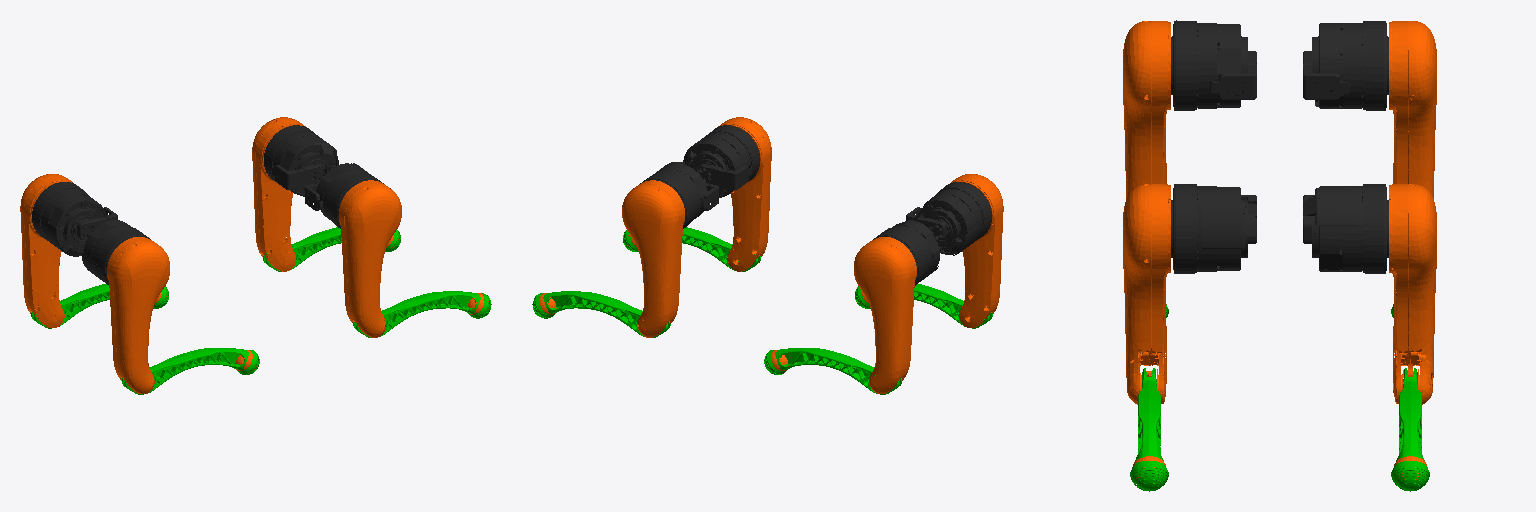
robot.urdf — magicdog:
<?xml version="1.0" ?>
<!-- =================================================================================== -->
<!-- |    This document was autogenerated by xacro from robot.xacro                    | -->
<!-- |    EDITING THIS FILE BY HAND IS NOT RECOMMENDED                                 | -->
<!-- =================================================================================== -->
<robot name="magicdog">
  <material name="black">
    <color rgba="0.0 0.0 0.0 1.0"/>
  </material>
  <material name="blue">
    <color rgba="0.0 0.0 0.8 1.0"/>
  </material>
  <material name="green">
    <color rgba="0.0 0.8 0.0 1.0"/>
  </material>
  <material name="grey">
    <color rgba="0.2 0.2 0.2 1.0"/>
  </material>
  <material name="silver">
    <color rgba="0.9137254901960784 0.9137254901960784 0.8470588235294118 1.0"/>
  </material>
  <material name="orange">
    <color rgba="1.0 0.4235294117647059 0.0392156862745098 1.0"/>
  </material>
  <material name="brown">
    <color rgba="0.8705882352941177 0.8117647058823529 0.7647058823529411 1.0"/>
  </material>
  <material name="red">
    <color rgba="0.8 0.0 0.0 1.0"/>
  </material>
  <material name="white">
    <color rgba="1.0 1.0 1.0 1.0"/>
  </material>
  <link name="base">
    <visual>
      <origin rpy="0 0 0" xyz="0 0 0"/>
      <geometry>
        <mesh filename="../meshes/magicdog_base.STL" scale="1 1 1"/>
      </geometry>
      <material name="silver"/>
    </visual>
    <collision>
      <origin rpy="0 0 0" xyz="0 0 0"/>
      <geometry>
        <box size="0.327 0.194 0.114"/>
      </geometry>
    </collision>
    <inertial>
      <origin rpy="0 0 0" xyz="0.043915809 0.0014386952 0.023430447"/>
      <mass value="7.1470505"/>
      <inertia ixx="0.041446738" ixy="0.00030043745" ixz="-0.029443965" iyy="0.13639022" iyz="0.00024507679" izz="0.13178939"/>
    </inertial>
  </link>
  <joint name="head_fixed" type="fixed">
    <origin rpy="0 0 0" xyz="0.25 0 0.14"/>
    <parent link="base"/>
    <child link="head"/>
  </joint>
  <!-- this link is only for collision -->
  <link name="head">
    <inertial>
      <mass value="0.001"/>
      <origin rpy="0 0 0" xyz="0 0 0"/>
      <inertia ixx="0.000001" ixy="0" ixz="0" iyy="0.000001" iyz="0" izz="0.000001"/>
    </inertial>
    <collision>
      <origin rpy="0 0 0" xyz="0 0 0"/>
      <geometry>
        <box size="0.16 0.1 0.13"/>
      </geometry>
    </collision>
  </link>
  <joint name="FR_hip_joint" type="revolute">
    <origin rpy="0 0 0" xyz="0.220365 -0.04998785 0"/>
    <parent link="base"/>
    <child link="FR_hip"/>
    <axis xyz="1 0 0"/>
    <dynamics damping="0" friction="0"/>
    <limit effort="25" lower="-0.6457718232379019" upper="0.7853981633974483" velocity="22"/>
  </joint>
  <link name="FR_hip">
    <visual>
      <origin rpy="0 0 0" xyz="0 0 0"/>
      <geometry>
        <mesh filename="../meshes/magicdog_hip_R.STL" scale="1 1 1"/>
      </geometry>
      <material name="grey"/>
    </visual>
    <collision>
      <origin rpy="1.5707963267948966 0 0" xyz="0 -0.075 0"/>
      <geometry>
        <cylinder length="0.07" radius="0.05"/>
      </geometry>
    </collision>
    <inertial>
      <origin rpy="0 0 0" xyz="-0.034672887 0.0039130227 0.0"/>
      <mass value="0.35996359"/>
      <inertia ixx="0.00010289238" ixy="-3.0677028e-05" ixz="0" iyy="0.00047667644" iyz="-0.0" izz="0.00046973335"/>
    </inertial>
  </link>
  <joint name="FR_thigh_joint" type="revolute">
    <origin rpy="0 0 0" xyz="0 -0.099 0"/>
    <parent link="FR_hip"/>
    <child link="FR_thigh"/>
    <axis xyz="0 1 0"/>
    <dynamics damping="0" friction="0"/>
    <limit effort="25" lower="-1.2653637076958888" upper="3.6215581978882336" velocity="22"/>
  </joint>
  <link name="FR_thigh">
    <visual>
      <origin rpy="0 0 0" xyz="0 0 0"/>
      <geometry>
        <mesh filename="../meshes/magicdog_thigh_R.STL" scale="1 1 1"/>
      </geometry>
      <material name="orange"/>
    </visual>
    <collision>
      <origin rpy="0 0 0" xyz="-0.02 0 -0.12"/>
      <geometry>
        <box size="0.043 0.0285 0.13"/>
      </geometry>
    </collision>
    <inertial>
      <origin rpy="0 0 0" xyz="-0.0033473586 0.031436598 -0.032009477"/>
      <mass value="1.5725954"/>
      <inertia ixx="0.0089600443" ixy="-0.00020991626" ixz="-0.00051137678" iyy="0.0078167414" iyz="-0.0017655451" izz="0.0028432732"/>
    </inertial>
  </link>
  <joint name="FR_calf_joint" type="revolute">
    <origin rpy="0 0 0" xyz="0 0 -0.2"/>
    <parent link="FR_thigh"/>
    <child link="FR_calf"/>
    <axis xyz="0 1 0"/>
    <dynamics damping="0" friction="0"/>
    <limit effort="37.5" lower="-2.4958208303518914" upper="-0.5235987755982988" velocity="15"/>
  </joint>
  <link name="FR_calf">
    <visual>
      <origin rpy="0 0 0" xyz="0 0 0"/>
      <geometry>
        <mesh filename="../meshes/magicdog_claf.STL" scale="1 1 1"/>
      </geometry>
      <material name="green"/>
    </visual>
    <collision>
      <origin rpy="0 1.5707963267948966 0" xyz="0.02 0 -0.1"/>
      <geometry>
        <box size="0.13 0.025 0.02"/>
      </geometry>
    </collision>
    <inertial>
      <origin rpy="0 0 0" xyz="0.0067810781 -4.6564496e-07 -0.070408595"/>
      <mass value="0.24182624"/>
      <inertia ixx="0.0016261823" ixy="1.1047432e-09" ixz="-7.1695784e-06" iyy="0.0016488489" iyz="-2.0151304e-09" izz="4.2153701e-05"/>
    </inertial>
  </link>
  <joint name="FR_foot_joint" type="fixed" dont_collapse="true">
    <origin rpy="0 0 0" xyz="0 0 -0.2"/>
    <parent link="FR_calf"/>
    <child link="FR_foot"/>
    <axis xyz="0 0 0" />
  </joint>
  <link name="FR_foot">
    <visual>
      <origin rpy="0 0 0" xyz="0 0 0"/>
      <geometry>
        <sphere radius="0.02"/>
      </geometry>
      <material name="orange"/>
    </visual>
    <collision>
      <origin rpy="0 0 0" xyz="0 0 0"/>
      <geometry>
        <sphere radius="0.02"/>
      </geometry>
    </collision>
    <inertial>
      <origin xyz="0 0 0" rpy="0 0 0" />
      <mass value="0.01"/>
      <inertia ixx="1.6e-06" ixy="0.0" ixz="0.0" iyy="1.6e-06" iyz="0.0" izz="1.6e-06"/>
    </inertial>
  </link>
  <joint name="FL_hip_joint" type="revolute">
    <origin rpy="0 0 0" xyz="0.220365 0.04998785 0"/>
    <parent link="base"/>
    <child link="FL_hip"/>
    <axis xyz="1 0 0"/>
    <dynamics damping="0" friction="0"/>
    <limit effort="25" lower="-0.7853981633974483" upper="0.6457718232379019" velocity="22"/>
  </joint>
  <link name="FL_hip">
    <visual>
      <origin rpy="0 0 0" xyz="0 0 0"/>
      <geometry>
        <mesh filename="../meshes/magicdog_hip_L.STL" scale="1 1 1"/>
      </geometry>
      <material name="grey"/>
    </visual>
    <collision>
      <origin rpy="1.5707963267948966 0 0" xyz="0 0.075 0"/>
      <geometry>
        <cylinder length="0.07" radius="0.05"/>
      </geometry>
    </collision>
    <inertial>
      <origin rpy="0 0 0" xyz="-0.034672887 -0.0039130227 0.0"/>
      <mass value="0.35996359"/>
      <inertia ixx="0.00010289238" ixy="3.0677028e-05" ixz="0" iyy="0.00047667644" iyz="0.0" izz="0.00046973335"/>
    </inertial>
  </link>
  <joint name="FL_thigh_joint" type="revolute">
    <origin rpy="0 0 0" xyz="0 0.099 0"/>
    <parent link="FL_hip"/>
    <child link="FL_thigh"/>
    <axis xyz="0 1 0"/>
    <dynamics damping="0" friction="0"/>
    <limit effort="25" lower="-1.2653637076958888" upper="3.6215581978882336" velocity="22"/>
  </joint>
  <link name="FL_thigh">
    <visual>
      <origin rpy="0 0 0" xyz="0 0 0"/>
      <geometry>
        <mesh filename="../meshes/magicdog_thigh_L.STL" scale="1 1 1"/>
      </geometry>
      <material name="orange"/>
    </visual>
    <collision>
      <origin rpy="0 0 0" xyz="-0.02 0 -0.12"/>
      <geometry>
        <box size="0.043 0.0285 0.13"/>
      </geometry>
    </collision>
    <inertial>
      <origin rpy="0 0 0" xyz="-0.0033473586 -0.031436598 -0.032009477"/>
      <mass value="1.5725954"/>
      <inertia ixx="0.0089600443" ixy="0.00020991626" ixz="-0.00051137678" iyy="0.0078167414" iyz="0.0017655451" izz="0.0028432732"/>
    </inertial>
  </link>
  <joint name="FL_calf_joint" type="revolute">
    <origin rpy="0 0 0" xyz="0 0 -0.2"/>
    <parent link="FL_thigh"/>
    <child link="FL_calf"/>
    <axis xyz="0 1 0"/>
    <dynamics damping="0" friction="0"/>
    <limit effort="37.5" lower="-2.4958208303518914" upper="-0.5235987755982988" velocity="15"/>
  </joint>
  <link name="FL_calf">
    <visual>
      <origin rpy="0 0 0" xyz="0 0 0"/>
      <geometry>
        <mesh filename="../meshes/magicdog_claf.STL" scale="1 1 1"/>
      </geometry>
      <material name="green"/>
    </visual>
    <collision>
      <origin rpy="0 1.5707963267948966 0" xyz="0.02 0 -0.1"/>
      <geometry>
        <box size="0.13 0.025 0.02"/>
      </geometry>
    </collision>
    <inertial>
      <origin rpy="0 0 0" xyz="0.0067810781 -4.6564496e-07 -0.070408595"/>
      <mass value="0.24182624"/>
      <inertia ixx="0.0016261823" ixy="1.1047432e-09" ixz="-7.1695784e-06" iyy="0.0016488489" iyz="-2.0151304e-09" izz="4.2153701e-05"/>
    </inertial>
  </link>
  <joint name="FL_foot_joint" type="fixed" dont_collapse="true">
    <origin rpy="0 0 0" xyz="0 0 -0.2"/>
    <parent link="FL_calf"/>
    <child link="FL_foot"/>
  </joint>
  <link name="FL_foot">
    <visual>
      <origin rpy="0 0 0" xyz="0 0 0"/>
      <geometry>
        <sphere radius="0.02"/>
      </geometry>
      <material name="orange"/>
    </visual>
    <collision>
      <origin rpy="0 0 0" xyz="0 0 0"/>
      <geometry>
        <sphere radius="0.02"/>
      </geometry>
    </collision>
    <inertial>
      <mass value="0.01"/>
      <inertia ixx="1.6e-06" ixy="0.0" ixz="0.0" iyy="1.6e-06" iyz="0.0" izz="1.6e-06"/>
    </inertial>
  </link>
  <joint name="RR_hip_joint" type="revolute">
    <origin rpy="0 0 0" xyz="-0.220365 -0.04998785 0"/>
    <parent link="base"/>
    <child link="RR_hip"/>
    <axis xyz="1 0 0"/>
    <dynamics damping="0" friction="0"/>
    <limit effort="25" lower="-0.6457718232379019" upper="0.7853981633974483" velocity="22"/>
  </joint>
  <link name="RR_hip">
    <visual>
      <origin rpy="0 3.141592653589793 0 " xyz="0 0 0"/>
      <geometry>
        <mesh filename="../meshes/magicdog_hip_R.STL" scale="1 1 1"/>
      </geometry>
      <material name="grey"/>
    </visual>
    <collision>
      <origin rpy="1.5707963267948966 0 0" xyz="0 -0.075 0"/>
      <geometry>
        <cylinder length="0.07" radius="0.05"/>
      </geometry>
    </collision>
    <inertial>
      <origin rpy="0 0 0" xyz="0.034672887 0.0039130227 0.0"/>
      <mass value="0.35996359"/>
      <inertia ixx="0.00010289238" ixy="3.0677028e-05" ixz="0" iyy="0.00047667644" iyz="-0.0" izz="0.00046973335"/>
    </inertial>
  </link>
  <joint name="RR_thigh_joint" type="revolute">
    <origin rpy="0 0 0" xyz="0 -0.099 0"/>
    <parent link="RR_hip"/>
    <child link="RR_thigh"/>
    <axis xyz="0 1 0"/>
    <dynamics damping="0" friction="0"/>
    <limit effort="25" lower="-1.2653637076958888" upper="3.6215581978882336" velocity="22"/>
  </joint>
  <link name="RR_thigh">
    <visual>
      <origin rpy="0 0 0" xyz="0 0 0"/>
      <geometry>
        <mesh filename="../meshes/magicdog_thigh_R.STL" scale="1 1 1"/>
      </geometry>
      <material name="orange"/>
    </visual>
    <collision>
      <origin rpy="0 0 0" xyz="-0.02 0 -0.12"/>
      <geometry>
        <box size="0.043 0.0285 0.13"/>
      </geometry>
    </collision>
    <inertial>
      <origin rpy="0 0 0" xyz="-0.0033473586 0.031436598 -0.032009477"/>
      <mass value="1.5725954"/>
      <inertia ixx="0.0089600443" ixy="-0.00020991626" ixz="-0.00051137678" iyy="0.0078167414" iyz="-0.0017655451" izz="0.0028432732"/>
    </inertial>
  </link>
  <joint name="RR_calf_joint" type="revolute">
    <origin rpy="0 0 0" xyz="0 0 -0.2"/>
    <parent link="RR_thigh"/>
    <child link="RR_calf"/>
    <axis xyz="0 1 0"/>
    <dynamics damping="0" friction="0"/>
    <limit effort="37.5" lower="-2.4958208303518914" upper="-0.5235987755982988" velocity="15"/>
  </joint>
  <link name="RR_calf">
    <visual>
      <origin rpy="0 0 0" xyz="0 0 0"/>
      <geometry>
        <mesh filename="../meshes/magicdog_claf.STL" scale="1 1 1"/>
      </geometry>
      <material name="green"/>
    </visual>
    <collision>
      <origin rpy="0 1.5707963267948966 0" xyz="0.02 0 -0.1"/>
      <geometry>
        <box size="0.13 0.025 0.02"/>
      </geometry>
    </collision>
    <inertial>
      <origin rpy="0 0 0" xyz="0.0067810781 -4.6564496e-07 -0.070408595"/>
      <mass value="0.24182624"/>
      <inertia ixx="0.0016261823" ixy="1.1047432e-09" ixz="-7.1695784e-06" iyy="0.0016488489" iyz="-2.0151304e-09" izz="4.2153701e-05"/>
    </inertial>
  </link>
  <joint name="RR_foot_joint" type="fixed" dont_collapse="true">
    <origin rpy="0 0 0" xyz="0 0 -0.2"/>
    <parent link="RR_calf"/>
    <child link="RR_foot"/>
  </joint>
  <link name="RR_foot">
    <visual>
      <origin rpy="0 0 0" xyz="0 0 0"/>
      <geometry>
        <sphere radius="0.02"/>
      </geometry>
      <material name="orange"/>
    </visual>
    <collision>
      <origin rpy="0 0 0" xyz="0 0 0"/>
      <geometry>
        <sphere radius="0.02"/>
      </geometry>
    </collision>
    <inertial>
      <mass value="0.01"/>
      <inertia ixx="1.6e-06" ixy="0.0" ixz="0.0" iyy="1.6e-06" iyz="0.0" izz="1.6e-06"/>
    </inertial>
  </link>
  <joint name="RL_hip_joint" type="revolute">
    <origin rpy="0 0 0" xyz="-0.220365 0.04998785 0"/>
    <parent link="base"/>
    <child link="RL_hip"/>
    <axis xyz="1 0 0"/>
    <dynamics damping="0" friction="0"/>
    <limit effort="25" lower="-0.7853981633974483" upper="0.6457718232379019" velocity="22"/>
  </joint>
  <link name="RL_hip">
    <visual>
      <origin rpy="0 3.141592653589793 0 " xyz="0 0 0"/>
      <geometry>
        <mesh filename="../meshes/magicdog_hip_L.STL" scale="1 1 1"/>
      </geometry>
      <material name="grey"/>
    </visual>
    <collision>
      <origin rpy="1.5707963267948966 0 0" xyz="0 0.075 0"/>
      <geometry>
        <cylinder length="0.07" radius="0.05"/>
      </geometry>
    </collision>
    <inertial>
      <origin rpy="0 0 0" xyz="0.034672887 -0.0039130227 0.0"/>
      <mass value="0.35996359"/>
      <inertia ixx="0.00010289238" ixy="-3.0677028e-05" ixz="0" iyy="0.00047667644" iyz="0.0" izz="0.00046973335"/>
    </inertial>
  </link>
  <joint name="RL_thigh_joint" type="revolute">
    <origin rpy="0 0 0" xyz="0 0.099 0"/>
    <parent link="RL_hip"/>
    <child link="RL_thigh"/>
    <axis xyz="0 1 0"/>
    <dynamics damping="0" friction="0"/>
    <limit effort="25" lower="-1.2653637076958888" upper="3.6215581978882336" velocity="22"/>
  </joint>
  <link name="RL_thigh">
    <visual>
      <origin rpy="0 0 0" xyz="0 0 0"/>
      <geometry>
        <mesh filename="../meshes/magicdog_thigh_L.STL" scale="1 1 1"/>
      </geometry>
      <material name="orange"/>
    </visual>
    <collision>
      <origin rpy="0 0 0" xyz="-0.02 0 -0.12"/>
      <geometry>
        <box size="0.043 0.0285 0.13"/>
      </geometry>
    </collision>
    <inertial>
      <origin rpy="0 0 0" xyz="-0.0033473586 -0.031436598 -0.032009477"/>
      <mass value="1.5725954"/>
      <inertia ixx="0.0089600443" ixy="0.00020991626" ixz="-0.00051137678" iyy="0.0078167414" iyz="0.0017655451" izz="0.0028432732"/>
    </inertial>
  </link>
  <joint name="RL_calf_joint" type="revolute">
    <origin rpy="0 0 0" xyz="0 0 -0.2"/>
    <parent link="RL_thigh"/>
    <child link="RL_calf"/>
    <axis xyz="0 1 0"/>
    <dynamics damping="0" friction="0"/>
    <limit effort="37.5" lower="-2.4958208303518914" upper="-0.5235987755982988" velocity="15"/>
  </joint>
  <link name="RL_calf">
    <visual>
      <origin rpy="0 0 0" xyz="0 0 0"/>
      <geometry>
        <mesh filename="../meshes/magicdog_claf.STL" scale="1 1 1"/>
      </geometry>
      <material name="green"/>
    </visual>
    <collision>
      <origin rpy="0 1.5707963267948966 0" xyz="0.02 0 -0.1"/>
      <geometry>
        <box size="0.13 0.025 0.02"/>
      </geometry>
    </collision>
    <inertial>
      <origin rpy="0 0 0" xyz="0.0067810781 -4.6564496e-07 -0.070408595"/>
      <mass value="0.24182624"/>
      <inertia ixx="0.0016261823" ixy="1.1047432e-09" ixz="-7.1695784e-06" iyy="0.0016488489" iyz="-2.0151304e-09" izz="4.2153701e-05"/>
    </inertial>
  </link>
  <joint name="RL_foot_joint" type="fixed" dont_collapse="true">
    <origin rpy="0 0 0" xyz="0 0 -0.2"/>
    <parent link="RL_calf"/>
    <child link="RL_foot"/>
  </joint>
  <link name="RL_foot">
    <visual>
      <origin rpy="0 0 0" xyz="0 0 0"/>
      <geometry>
        <sphere radius="0.02"/>
      </geometry>
      <material name="orange"/>
    </visual>
    <collision>
      <origin rpy="0 0 0" xyz="0 0 0"/>
      <geometry>
        <sphere radius="0.02"/>
      </geometry>
    </collision>
    <inertial>
      <mass value="0.01"/>
      <inertia ixx="1.6e-06" ixy="0.0" ixz="0.0" iyy="1.6e-06" iyz="0.0" izz="1.6e-06"/>
    </inertial>
  </link>
</robot>

--- Render facts (derived) ---
The picture shows the robot from 3 angles, left to right: view 1: azimuth 30°, elevation 25°; view 2: azimuth 150°, elevation 25°; view 3: azimuth 270°, elevation 25°; orthographic projection.
Model magicdog with 18 links and 17 joints (12 revolute, 5 fixed), rooted at base, posed joints at zero except 4 at the middle of their limits (FR_calf_joint = -1.51, FL_calf_joint = -1.51, RR_calf_joint = -1.51, RL_calf_joint = -1.51).
Visible links, largest first — view 1: FR_thigh, RR_thigh, RL_thigh, FL_thigh, RL_hip, FL_hip, FR_hip, FR_calf, RR_calf, RR_hip, RL_calf, FL_calf; view 2: FL_thigh, RL_thigh, RR_thigh, FR_thigh, RR_hip, FR_hip, FL_hip, FL_calf, RL_calf, RL_hip, RR_calf, FR_calf; view 3: FL_thigh, FR_thigh, RR_thigh, RL_thigh, FL_hip, RL_hip, FR_hip, RR_hip, FR_calf, FL_calf.
Link boxes in pixels (x1=…): FR_thigh: x1=339, y1=180, x2=401, y2=337; RR_thigh: x1=107, y1=237, x2=169, y2=393; RL_thigh: x1=20, y1=174, x2=72, y2=327; FL_thigh: x1=252, y1=117, x2=305, y2=271; RL_hip: x1=32, y1=182, x2=117, y2=256; FL_hip: x1=264, y1=125, x2=338, y2=196; FR_hip: x1=305, y1=163, x2=383, y2=228; FR_calf: x1=353, y1=291, x2=491, y2=337; RR_calf: x1=122, y1=348, x2=259, y2=394; RR_hip: x1=81, y1=220, x2=150, y2=284; RL_calf: x1=31, y1=284, x2=168, y2=328; FL_calf: x1=263, y1=227, x2=400, y2=271; FL_thigh: x1=622, y1=180, x2=684, y2=337; RL_thigh: x1=854, y1=237, x2=916, y2=393; RR_thigh: x1=951, y1=174, x2=1003, y2=327; FR_thigh: x1=718, y1=117, x2=771, y2=271; RR_hip: x1=906, y1=182, x2=991, y2=255; FR_hip: x1=683, y1=125, x2=759, y2=197; FL_hip: x1=640, y1=162, x2=718, y2=228; FL_calf: x1=532, y1=291, x2=670, y2=337; RL_calf: x1=764, y1=348, x2=901, y2=394; RL_hip: x1=873, y1=220, x2=939, y2=285; RR_calf: x1=855, y1=284, x2=992, y2=328; FR_calf: x1=623, y1=227, x2=760, y2=271; FL_thigh: x1=1389, y1=184, x2=1436, y2=404; FR_thigh: x1=1123, y1=184, x2=1170, y2=404; RR_thigh: x1=1123, y1=21, x2=1170, y2=198; RL_thigh: x1=1389, y1=21, x2=1436, y2=198; FL_hip: x1=1303, y1=184, x2=1388, y2=273; RL_hip: x1=1303, y1=21, x2=1388, y2=110; FR_hip: x1=1168, y1=184, x2=1256, y2=273; RR_hip: x1=1171, y1=20, x2=1256, y2=110; FR_calf: x1=1130, y1=368, x2=1168, y2=491; FL_calf: x1=1391, y1=368, x2=1429, y2=491.
Size in the robot's own frame: 0.7157 by 0.3595 by 0.2864 metres.
12 mesh visuals loaded from 6 distinct referenced files (5 binary STL); not drawn: 1 (reference not matched to a file when rendering).
